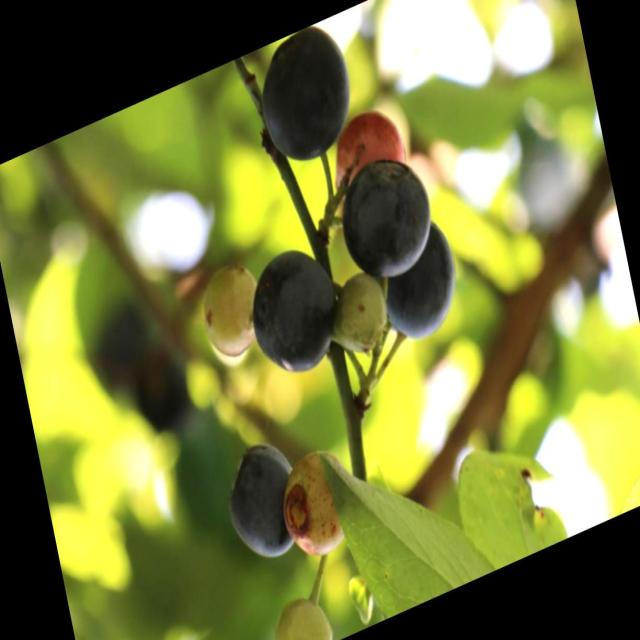blueberry: (251, 15, 362, 174), (238, 229, 348, 388), (335, 149, 441, 292), (372, 212, 466, 355), (218, 431, 306, 572)
blueberry-halfripe: (322, 97, 413, 199)
blueberry-unripe: (276, 445, 354, 571), (193, 258, 269, 373), (327, 264, 398, 368), (263, 588, 338, 640)
